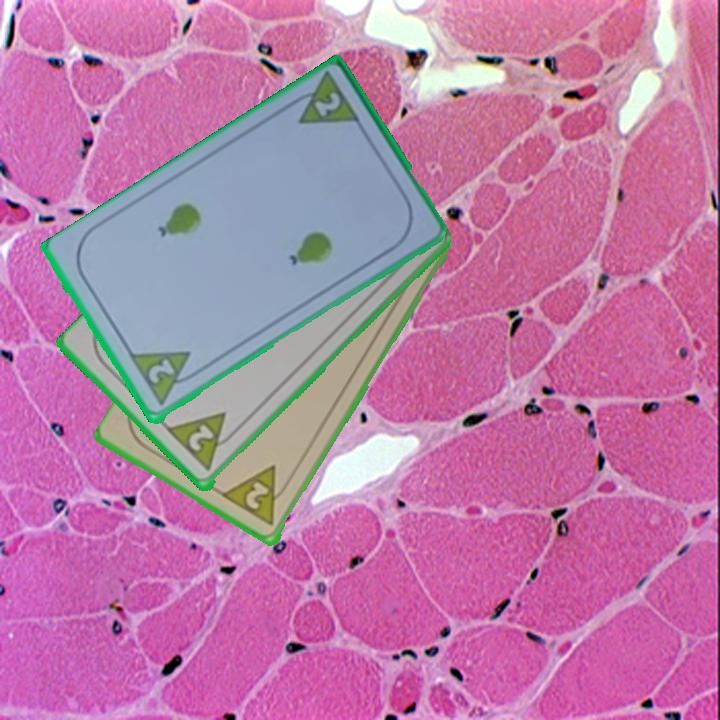2p: (164, 409, 243, 475), (220, 462, 296, 530), (284, 70, 364, 129), (144, 355, 178, 388)
